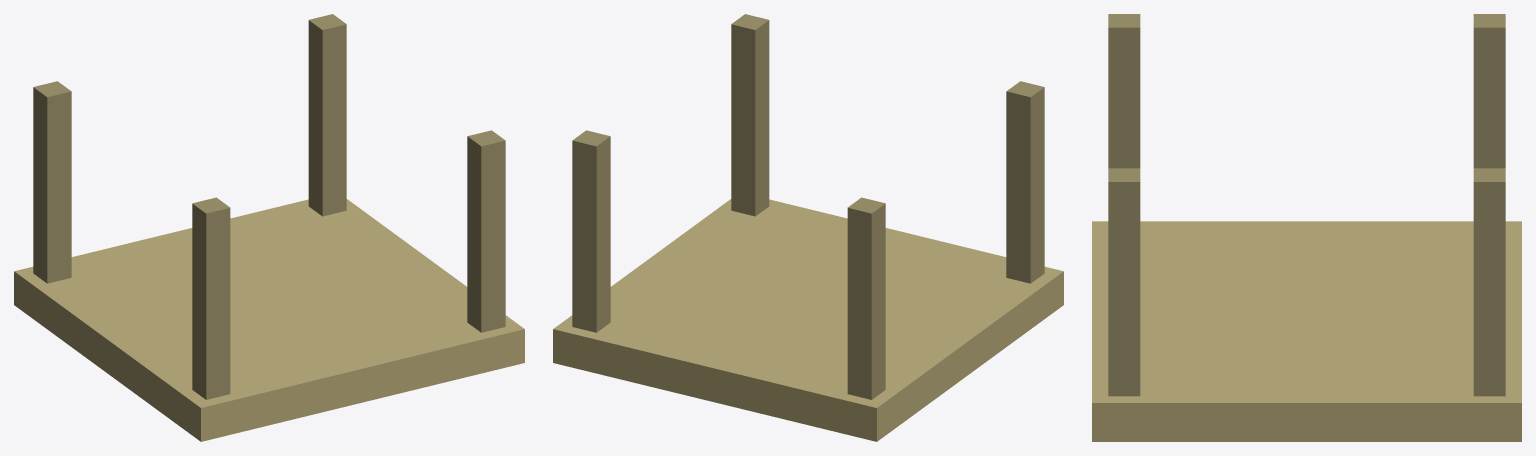
The model's file is buffer.glb.
The picture shows the model from 3 angles, left to right: view 1: azimuth 30°, elevation 25°; view 2: azimuth 150°, elevation 25°; view 3: azimuth 270°, elevation 25°; orthographic projection. The views are drawn at different scales.
Visible parts, largest first — view 1: buffer_0, buffer_1, buffer_4, buffer_2, buffer_3; view 2: buffer_0, buffer_3, buffer_2, buffer_1, buffer_4; view 3: buffer_0, buffer_2, buffer_4, buffer_1, buffer_3.
Boxes of the visible parts, x1=… form: buffer_0: x1=14, y1=199, x2=524, y2=441; buffer_1: x1=33, y1=81, x2=71, y2=283; buffer_4: x1=467, y1=130, x2=505, y2=332; buffer_2: x1=308, y1=14, x2=346, y2=216; buffer_3: x1=192, y1=197, x2=230, y2=399; buffer_0: x1=553, y1=199, x2=1063, y2=441; buffer_3: x1=1006, y1=81, x2=1044, y2=283; buffer_2: x1=572, y1=130, x2=610, y2=332; buffer_1: x1=847, y1=197, x2=885, y2=399; buffer_4: x1=731, y1=14, x2=769, y2=216; buffer_0: x1=1092, y1=221, x2=1521, y2=441; buffer_2: x1=1473, y1=168, x2=1505, y2=396; buffer_4: x1=1108, y1=168, x2=1140, y2=396; buffer_1: x1=1473, y1=14, x2=1505, y2=168; buffer_3: x1=1108, y1=14, x2=1140, y2=168.
Bounding box in the file's own units: 2 × 1.3 × 2.
